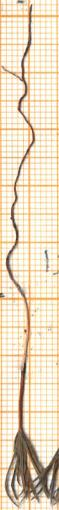flower: (0, 421, 49, 509)
root: (0, 5, 38, 291)
stem: (14, 292, 36, 429)
